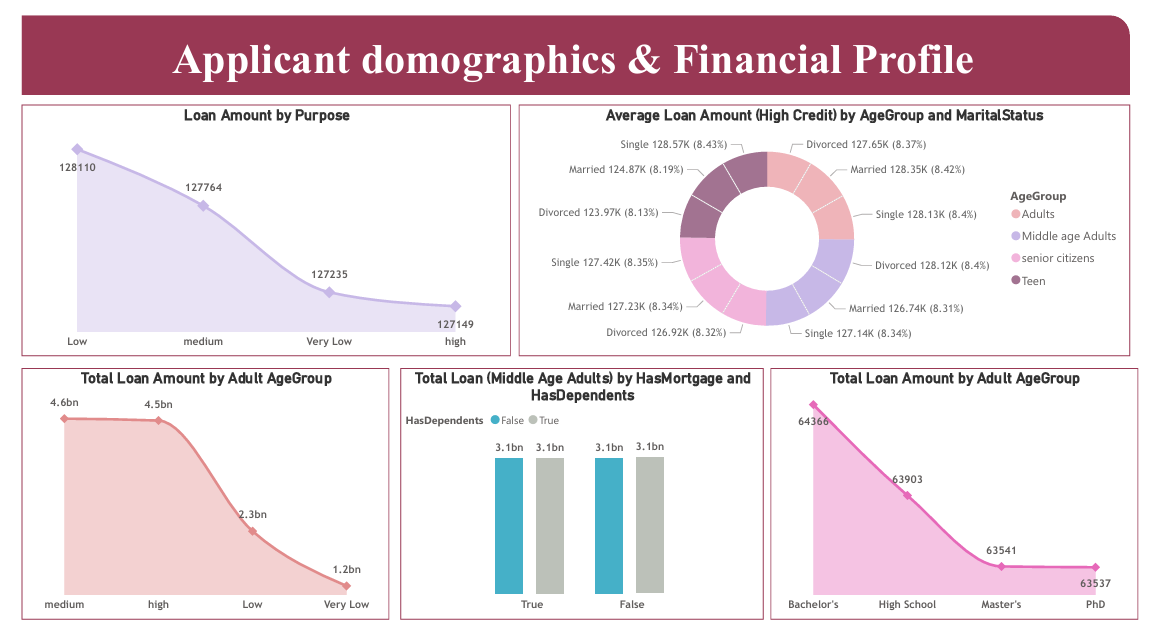

The page's visual inventory and layout, read from the dashboard file:
{"tool":"powerbi","page":{"name":"Applicant domographics & Financial Profile","canvas":[1280,720],"ordinal":1},"visuals":[{"type":"shape","box":[11,8.6,1259.5,90.5],"z":0},{"type":"lineChart","title":"Loan Amount by Purpose","fields":{"Category":["Loan_default.credit bins"],"Y":["Measures Table 2.Median by credit score bins"]},"box":[11,110.1,556.4,286.1],"z":1000},{"type":"donutChart","fields":{"Y":["Measures Table 2.Average Loan Amount (High Credit)"],"Series":["Loan_default.MaritalStatus"],"Category":["Loan_default.AgeGroup"]},"box":[576,110.1,694.6,286.1],"z":2000},{"type":"lineChart","title":"Total Loan Amount by Adult AgeGroup","fields":{"Category":["Loan_default.credit bins"],"Y":["Measures Table 2.Total Loan Amount by Adult AgeGroup"]},"box":[11,409.6,418.2,286.1],"z":3000},{"type":"clusteredColumnChart","fields":{"Y":["Measures Table 2.Total Loan (Middle Age Adults)"],"Category":["Loan_default.HasMortgage"],"Series":["Loan_default.HasDependents"]},"box":[441.4,409.6,413.3,286.1],"z":4000},{"type":"lineChart","title":"Total Loan Amount by Adult AgeGroup","fields":{"Y":["Measures Table 2.Total Loan by Education Type"],"Category":["Loan_default.Education"]},"box":[862.1,409.6,418.2,286.1],"z":5000}]}

Visuals, with their boxes in screenshot pixels (x1, y1, x2, y2), scaled from the page's 1280x720 canvas onto the 1160x637 screenshot:
shape: pyautogui.locateOnScreen(10, 8, 1151, 88)
"Loan Amount by Purpose" lineChart: pyautogui.locateOnScreen(10, 97, 514, 351)
donutChart - Measures Table 2.Average Loan Amount (High Credit) x Loan_default.MaritalStatus: pyautogui.locateOnScreen(522, 97, 1151, 351)
"Total Loan Amount by Adult AgeGroup" lineChart: pyautogui.locateOnScreen(10, 362, 389, 616)
clusteredColumnChart - Measures Table 2.Total Loan (Middle Age Adults) x Loan_default.HasMortgage: pyautogui.locateOnScreen(400, 362, 775, 616)
"Total Loan Amount by Adult AgeGroup" lineChart: pyautogui.locateOnScreen(781, 362, 1159, 616)
